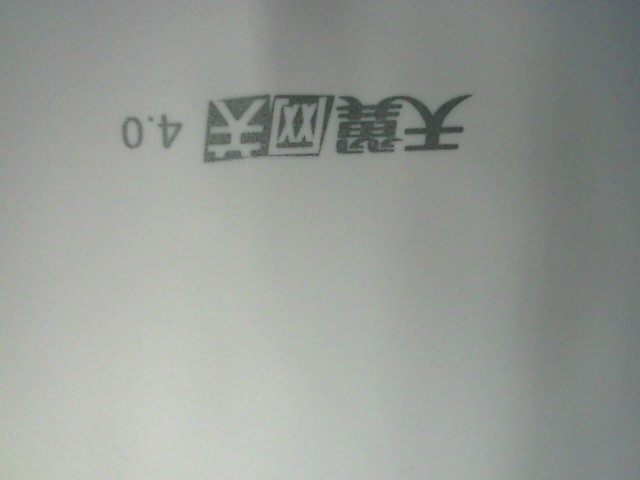BM_TianYiWangGuan: (108, 83, 472, 164)
